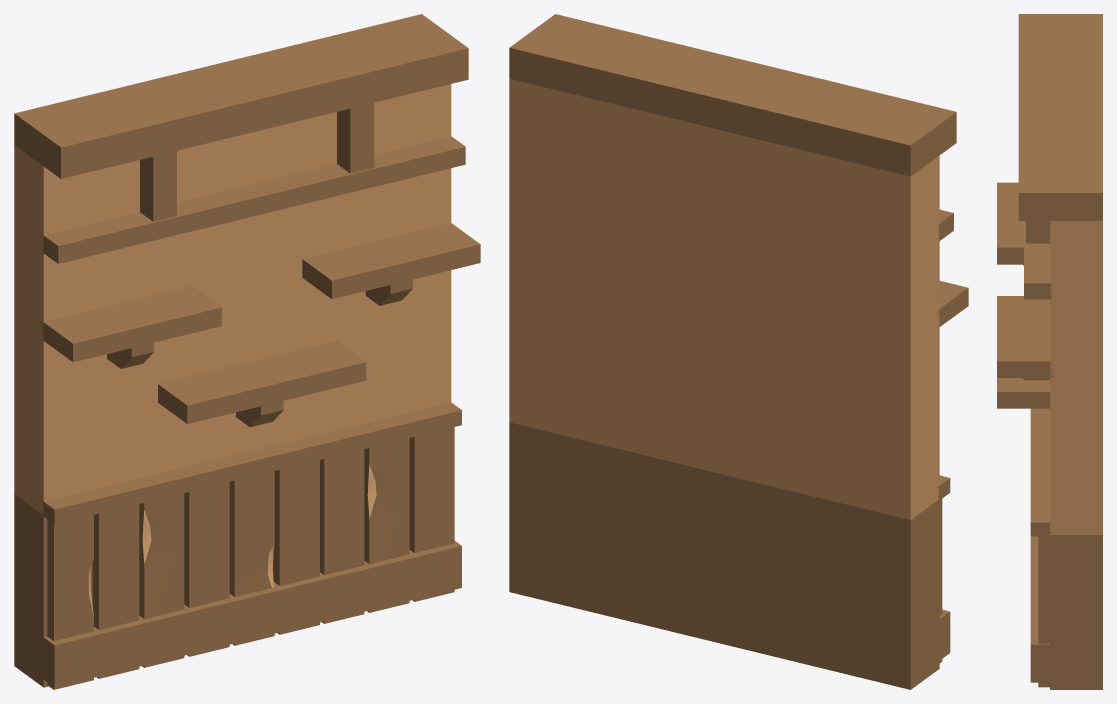
File: Wall Shelves.glb
3 renders of one model, left to right at view 1: azimuth 30°, elevation 25°; view 2: azimuth 150°, elevation 25°; view 3: azimuth 270°, elevation 25°, orthographic. The views are drawn at different scales.
Parts seen in each view (by area): view 1: Wall_Shelves; view 2: Wall_Shelves; view 3: Wall_Shelves.
Boxes of the visible parts, bbox=[...] form: Wall_Shelves: bbox=[14, 14, 480, 689]; Wall_Shelves: bbox=[509, 14, 968, 689]; Wall_Shelves: bbox=[997, 14, 1102, 689].
Size of the model in its own units: 4 by 5.18 by 0.9994.
Materials: 1 (1 with a texture image).
